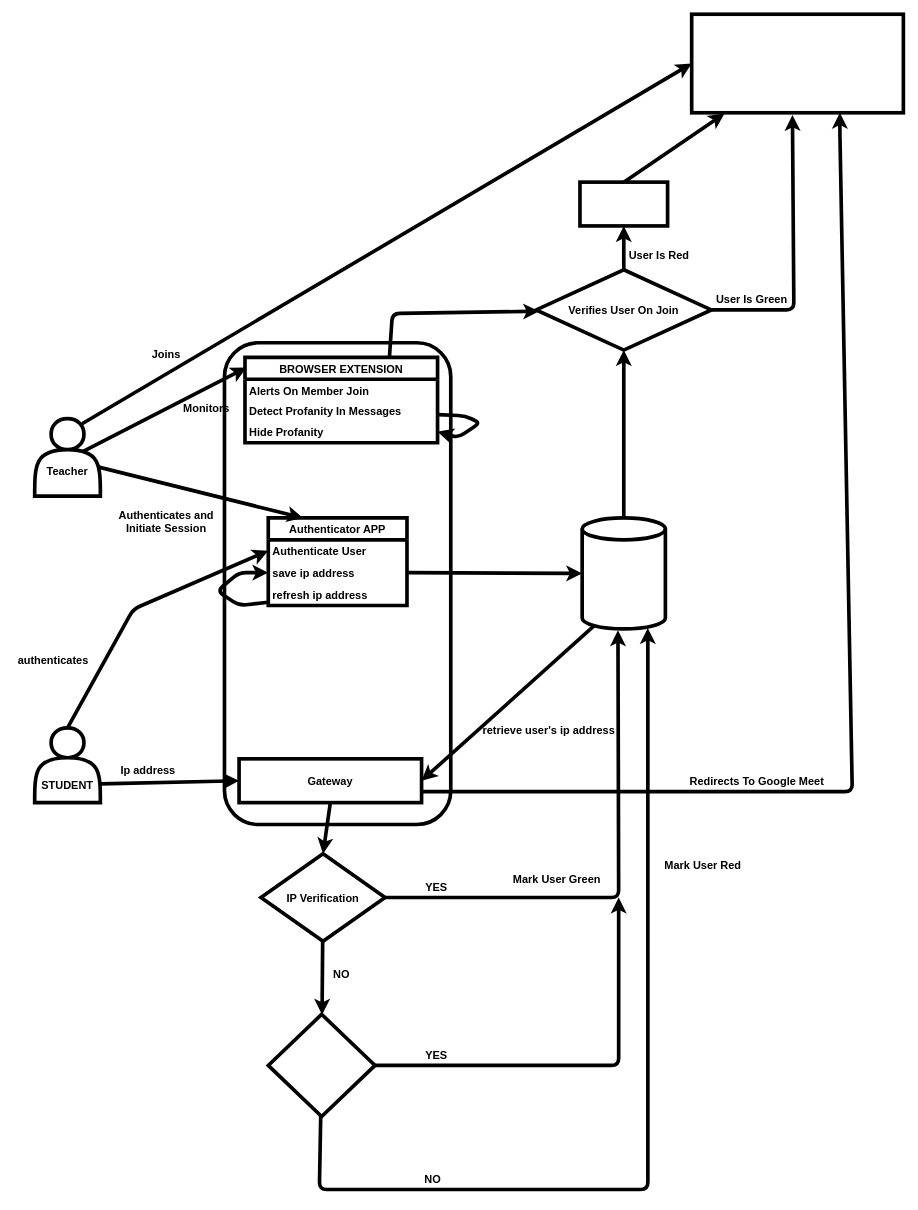
This 918x1210 diagram has some shape labels left out. The shapes that lost their labels are listed below. From the top down, each one's centre as x and y in pixels, then its label:
At [797,63]: "GOOGLE MEET".
At [623,203]: "Prompt The Teacher".
At [623,573]: "Database".
At [321,1065]: "SPECIAL TOKEN".
